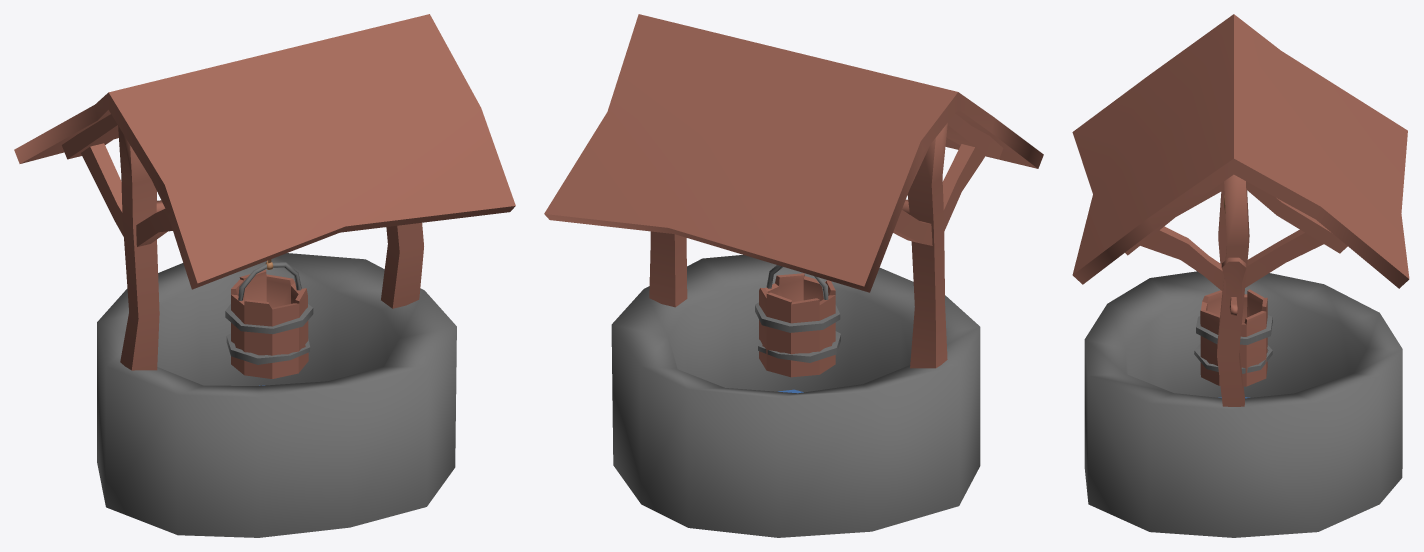
File: Poco.fbx
3 views of the same model, side by side, from view 1: azimuth 30°, elevation 25°; view 2: azimuth 150°, elevation 25°; view 3: azimuth 270°, elevation 25° (orthographic). The views are drawn at different scales.
Visible parts, largest first — view 1: Poco.001; view 2: Poco.001; view 3: Poco.001.
Part boxes in pixels (<box>): Poco.001: <box>14,14,515,537</box>; Poco.001: <box>544,14,1043,537</box>; Poco.001: <box>1072,14,1409,537</box>.
Size of the model in its own units: 1.85 by 2.09 by 2.32.
